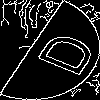D: (24, 25, 99, 78)
